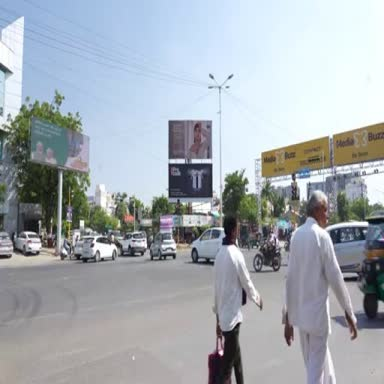Car: (326, 221, 368, 274), (191, 227, 224, 263), (82, 236, 117, 262), (150, 232, 176, 260), (120, 232, 146, 256), (15, 232, 41, 254), (0, 232, 13, 258), (74, 237, 83, 260)
